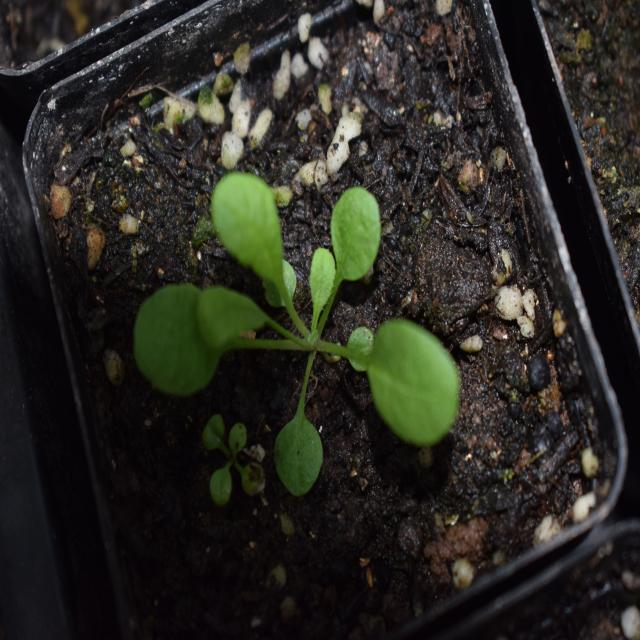Shepherd_Purse: (143, 162, 448, 454)
